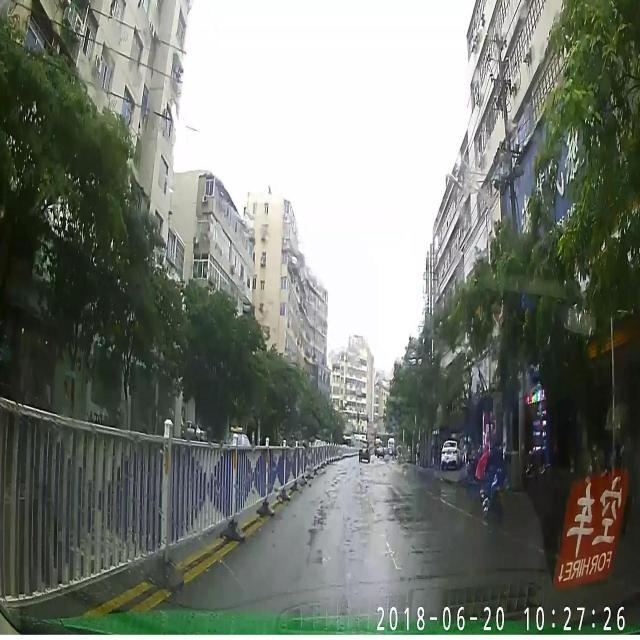car: (439, 434, 464, 472), (356, 439, 372, 464)
